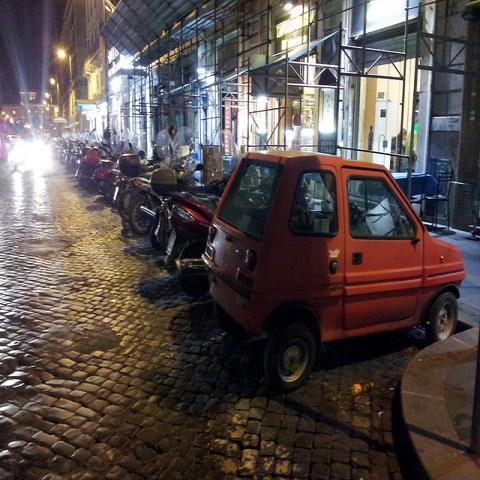car: (198, 151, 465, 390)
motorcycle: (119, 125, 204, 219), (152, 180, 224, 250), (162, 194, 216, 270), (118, 152, 160, 234), (82, 128, 136, 162), (74, 154, 112, 187), (60, 122, 88, 164), (67, 131, 97, 168), (102, 170, 127, 208), (93, 158, 118, 195)
